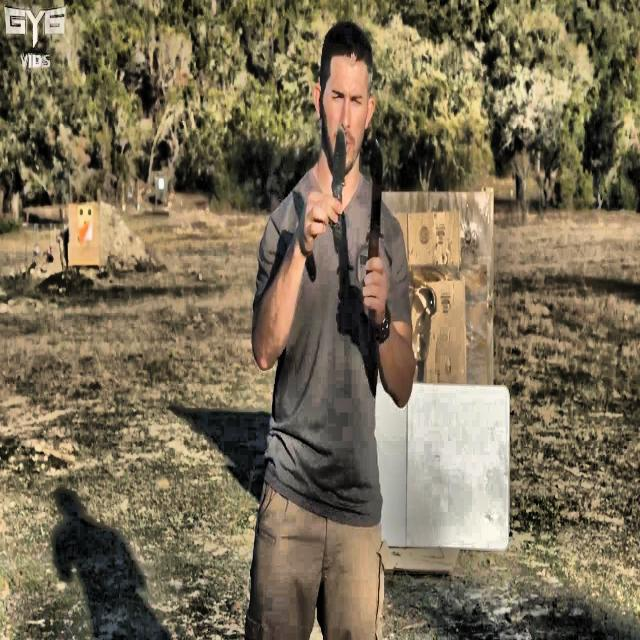knife: (366, 140, 383, 260), (332, 126, 346, 242)
